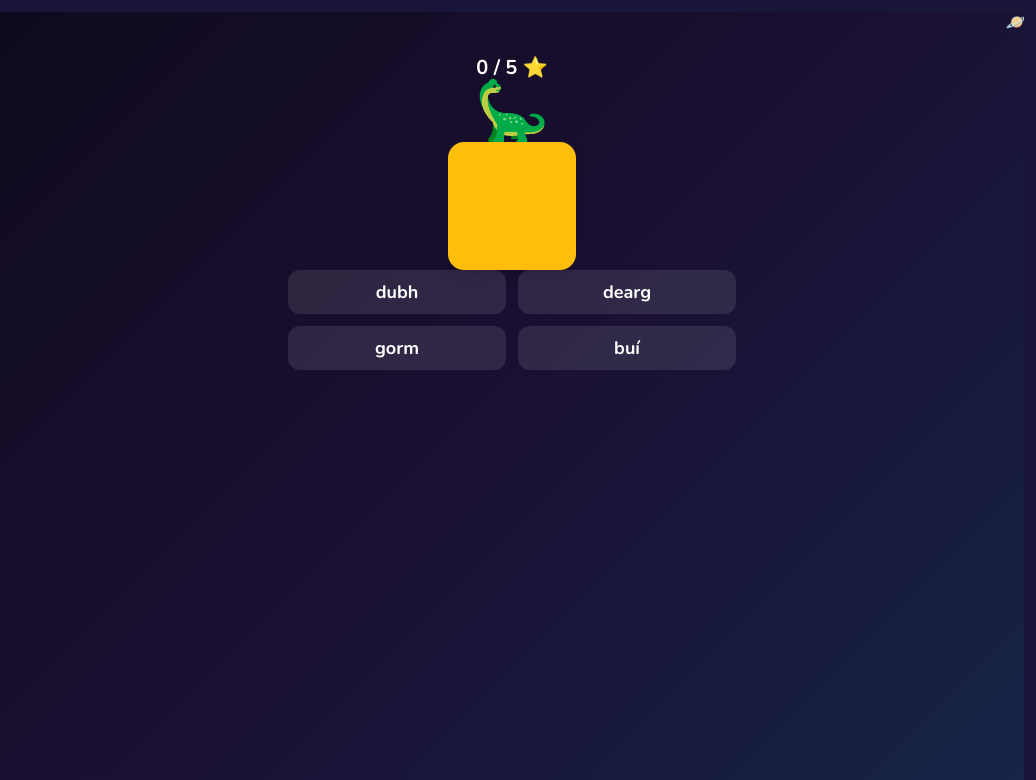
Test: ColorMatch › Victory screen › shows victory screen with 3 stars after 5 correct answers
Click the button "buí": [627, 348] box [518,326,736,370]
Wait 1600 ms
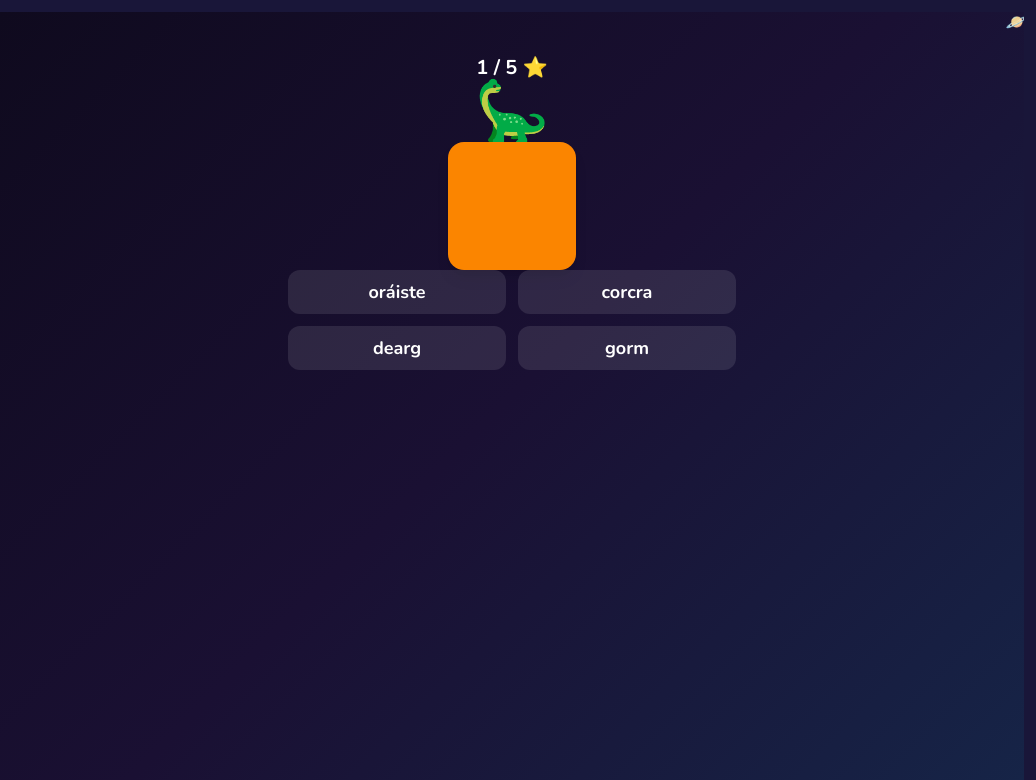
Click the button "oráiste": [397, 292] box [288,270,506,314]
Wait 1600 ms
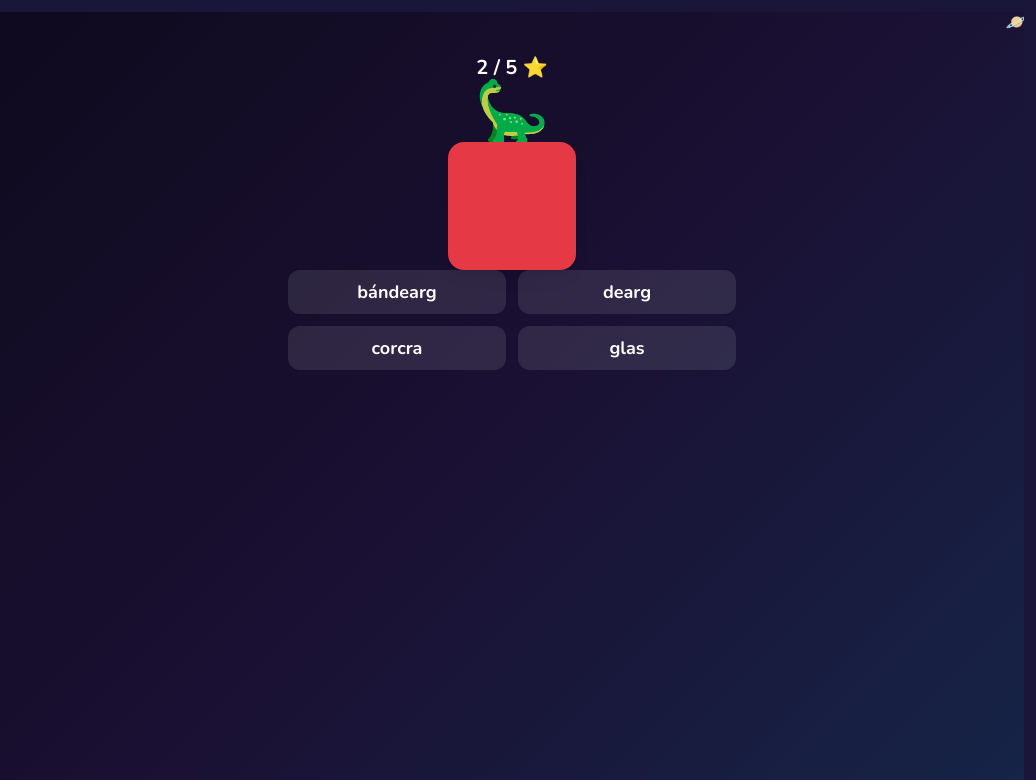
Click the button "dearg": [627, 292] box [518,270,736,314]
Wait 1600 ms
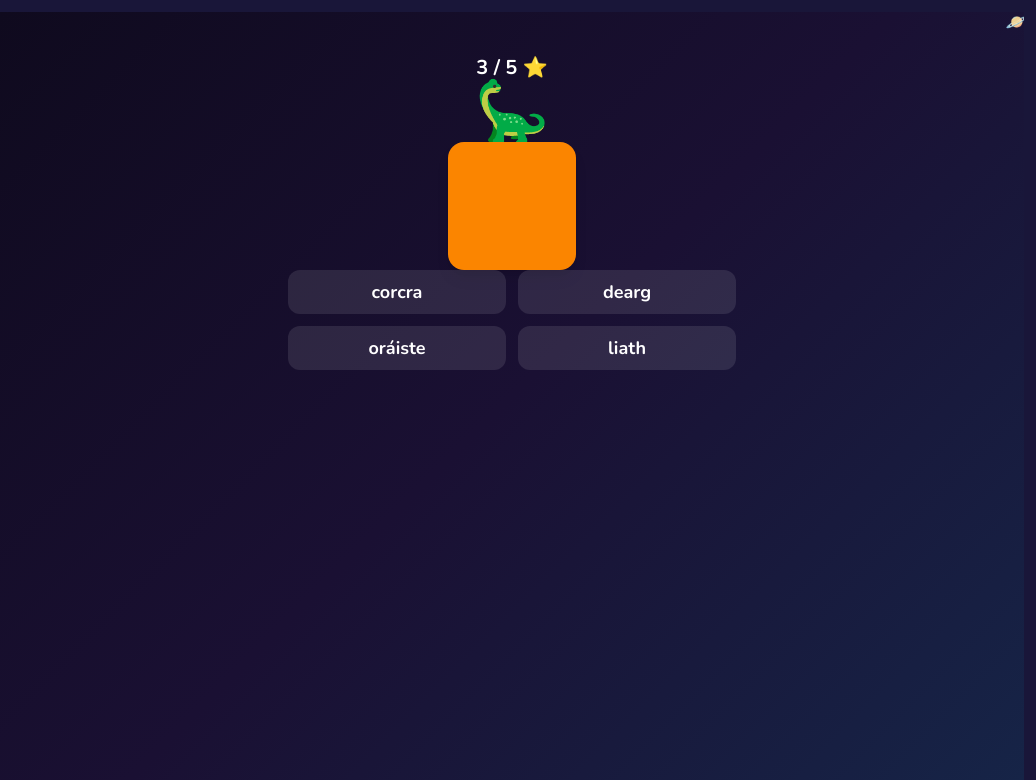
Click the button "oráiste": [397, 348] box [288,326,506,370]
Wait 1600 ms
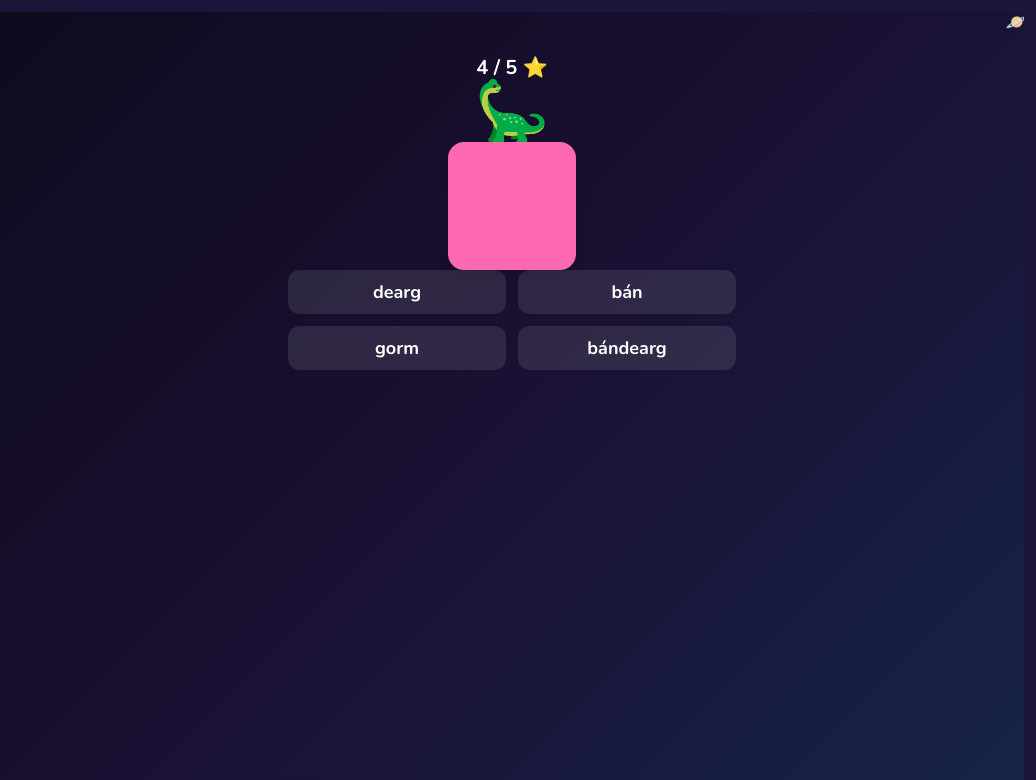
Click the button "bándearg": [627, 348] box [518,326,736,370]
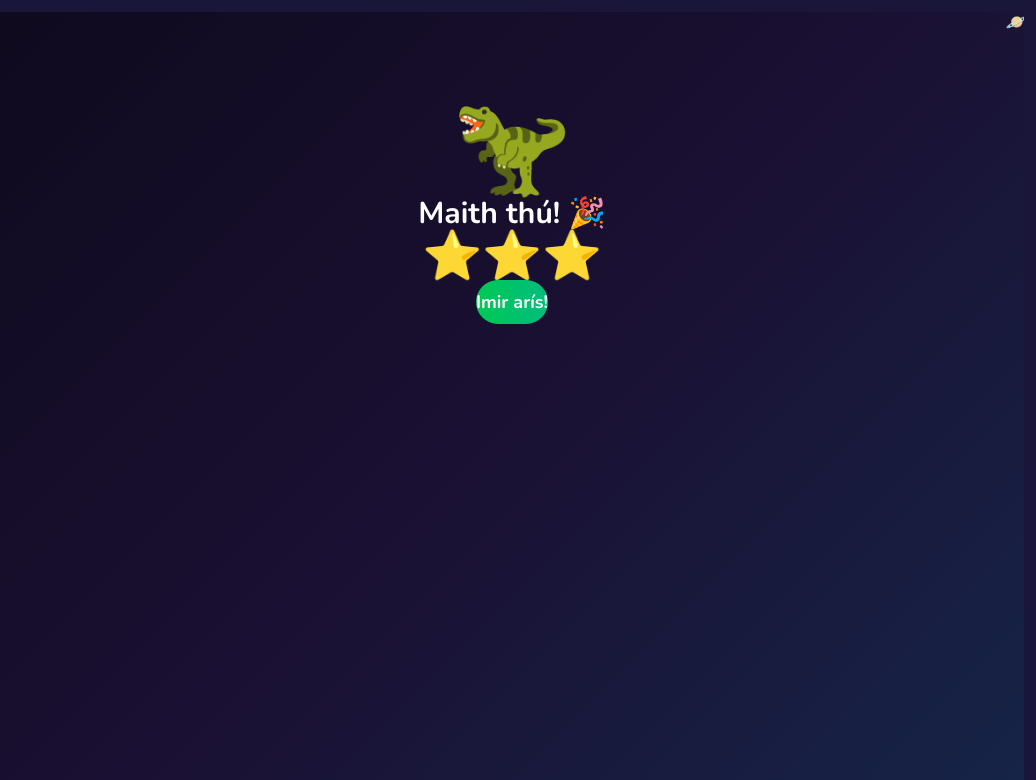
Expected: the text "⭐⭐⭐" is shown, [422,232,602,280]
